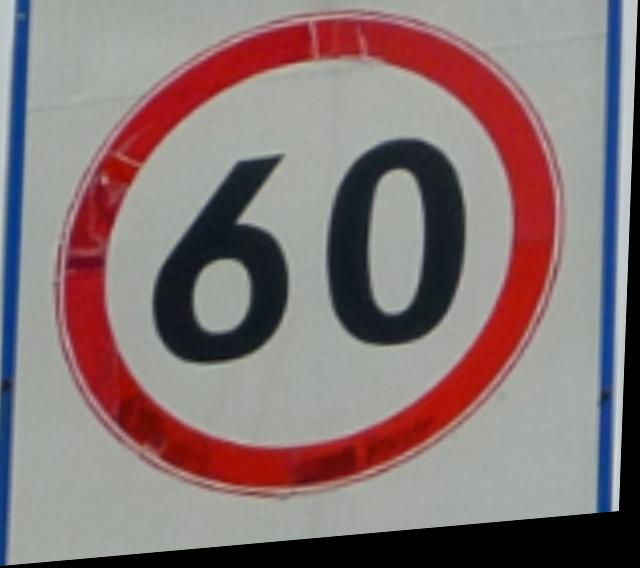limit60: (37, 0, 581, 530)
